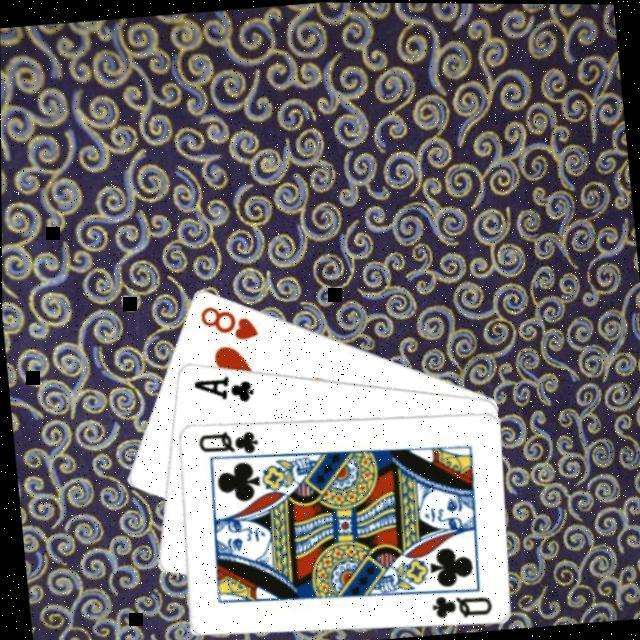8H: (193, 299, 259, 346)
AC: (186, 370, 254, 410)
QC: (190, 424, 258, 460), (424, 587, 491, 623)
